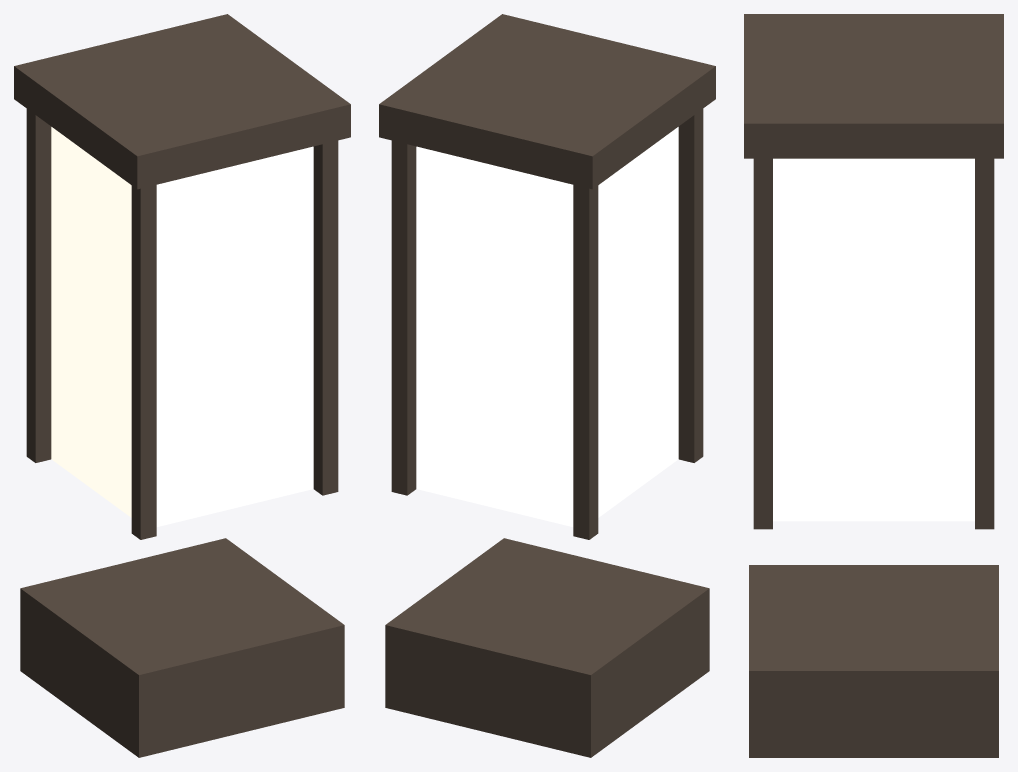
Rendered from prop_andon.glb.
3 views of the same model, side by side, from view 1: azimuth 30°, elevation 25°; view 2: azimuth 150°, elevation 25°; view 3: azimuth 270°, elevation 25° (orthographic). The views are drawn at different scales.
Visible parts, largest first — view 1: andon; view 2: andon; view 3: andon.
Boxes of the visible parts, left/top/right/bottom form: andon: left=14, top=14, right=350, bottom=757; andon: left=379, top=14, right=715, bottom=757; andon: left=744, top=14, right=1003, bottom=757.
Size of the model in its own units: 0.54 by 1.46 by 0.54.
